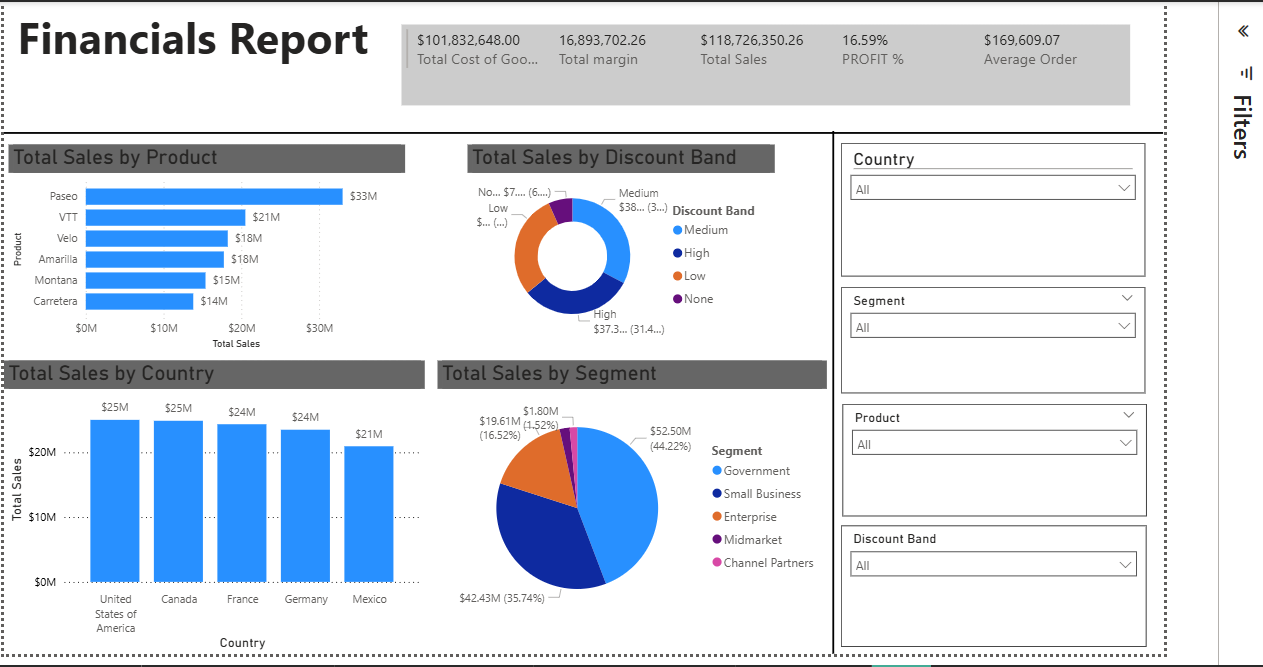

The page's visual inventory and layout, read from the dashboard file:
{"tool":"powerbi","page":{"name":"Financial Report ","canvas":[1280,720],"ordinal":0},"visuals":[{"type":"textbox","box":[10.1,0,428.3,84],"z":0},{"type":"multiRowCard","fields":{"Values":["All measures.Total Cost of Goods sold","All measures.Total margin","All measures.Total Sales","All measures.PROFIT %","All measures.Average Order"]},"box":[438.4,25.2,804.6,89],"z":1000},{"type":"shape","box":[0,64,1280,160],"z":2000},{"type":"clusteredColumnChart","fields":{"Category":["financials.Country"],"Y":["All measures.Total Sales"]},"box":[0,395.2,464.7,324.1],"z":3000},{"type":"slicer","fields":{"Values":["financials.Country"]},"box":[924.4,155.5,335.7,147.2],"z":4000},{"type":"pieChart","fields":{"Category":["financials.Segment"],"Y":["All measures.Total Sales"]},"box":[477.9,395.2,430,299.3],"z":5000},{"type":"clusteredBarChart","fields":{"Y":["All measures.Total Sales"],"Category":["financials.Product"]},"box":[5,157.1,438.2,229.9],"z":6000},{"type":"donutChart","fields":{"Category":["financials.Discount Band"],"Y":["All measures.Total Sales"]},"box":[512.7,157.1,339,219.9],"z":7000},{"type":"slicer","fields":{"Values":["financials.Segment"]},"box":[924.4,314.2,335.7,117.4],"z":8000},{"type":"slicer","fields":{"Values":["financials.Product"]},"box":[926.1,443.2,335.7,124],"z":9000},{"type":"slicer","fields":{"Values":["financials.Discount Band"]},"box":[924.4,578.8,337.4,134],"z":10000},{"type":"shape","box":[765.7,142.2,301,577.2],"z":11000}]}

Visuals, with their boxes on the page's 1280x720 design canvas (x1, y1, x2, y2). These are canvas units, not pixel positions in the 1263x667 screenshot, which may show the page scaled, cropped or inside an application window:
textbox: (x1=10, y1=0, x2=438, y2=84)
multiRowCard - All measures.Total Cost of Goods sold x All measures.Total margin: (x1=438, y1=25, x2=1243, y2=114)
shape: (x1=0, y1=64, x2=1280, y2=224)
clusteredColumnChart - financials.Country x All measures.Total Sales: (x1=0, y1=395, x2=465, y2=719)
slicer - financials.Country: (x1=924, y1=156, x2=1260, y2=303)
pieChart - financials.Segment x All measures.Total Sales: (x1=478, y1=395, x2=908, y2=694)
clusteredBarChart - All measures.Total Sales x financials.Product: (x1=5, y1=157, x2=443, y2=387)
donutChart - financials.Discount Band x All measures.Total Sales: (x1=513, y1=157, x2=852, y2=377)
slicer - financials.Segment: (x1=924, y1=314, x2=1260, y2=432)
slicer - financials.Product: (x1=926, y1=443, x2=1262, y2=567)
slicer - financials.Discount Band: (x1=924, y1=579, x2=1262, y2=713)
shape: (x1=766, y1=142, x2=1067, y2=719)
